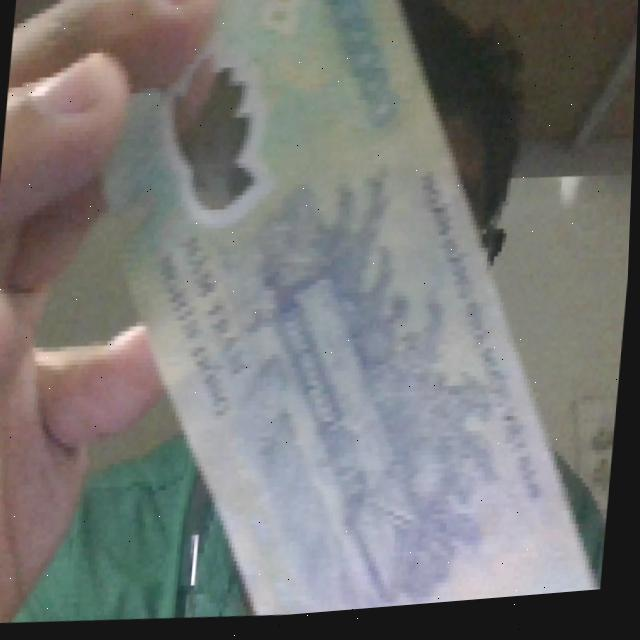500 000 VND: (60, 0, 640, 635)
